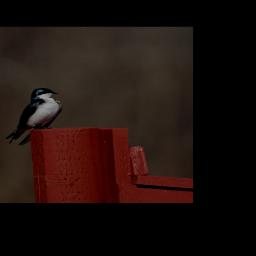Swallow: (5, 87, 63, 145)
